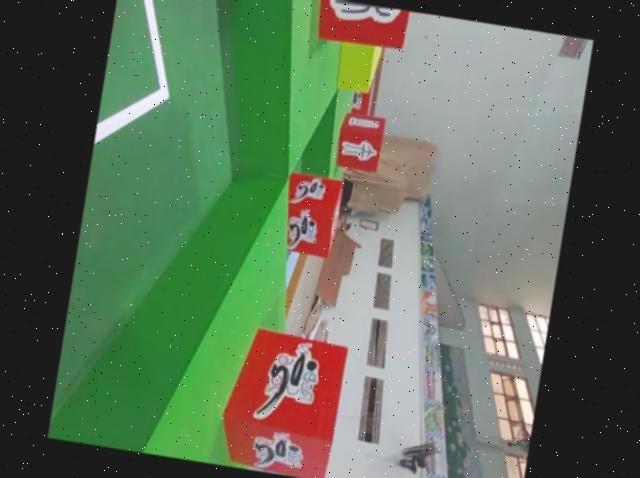R1: (212, 324, 346, 478), (269, 171, 339, 261)
R2 Fake: (303, 0, 411, 53), (331, 109, 385, 172)
